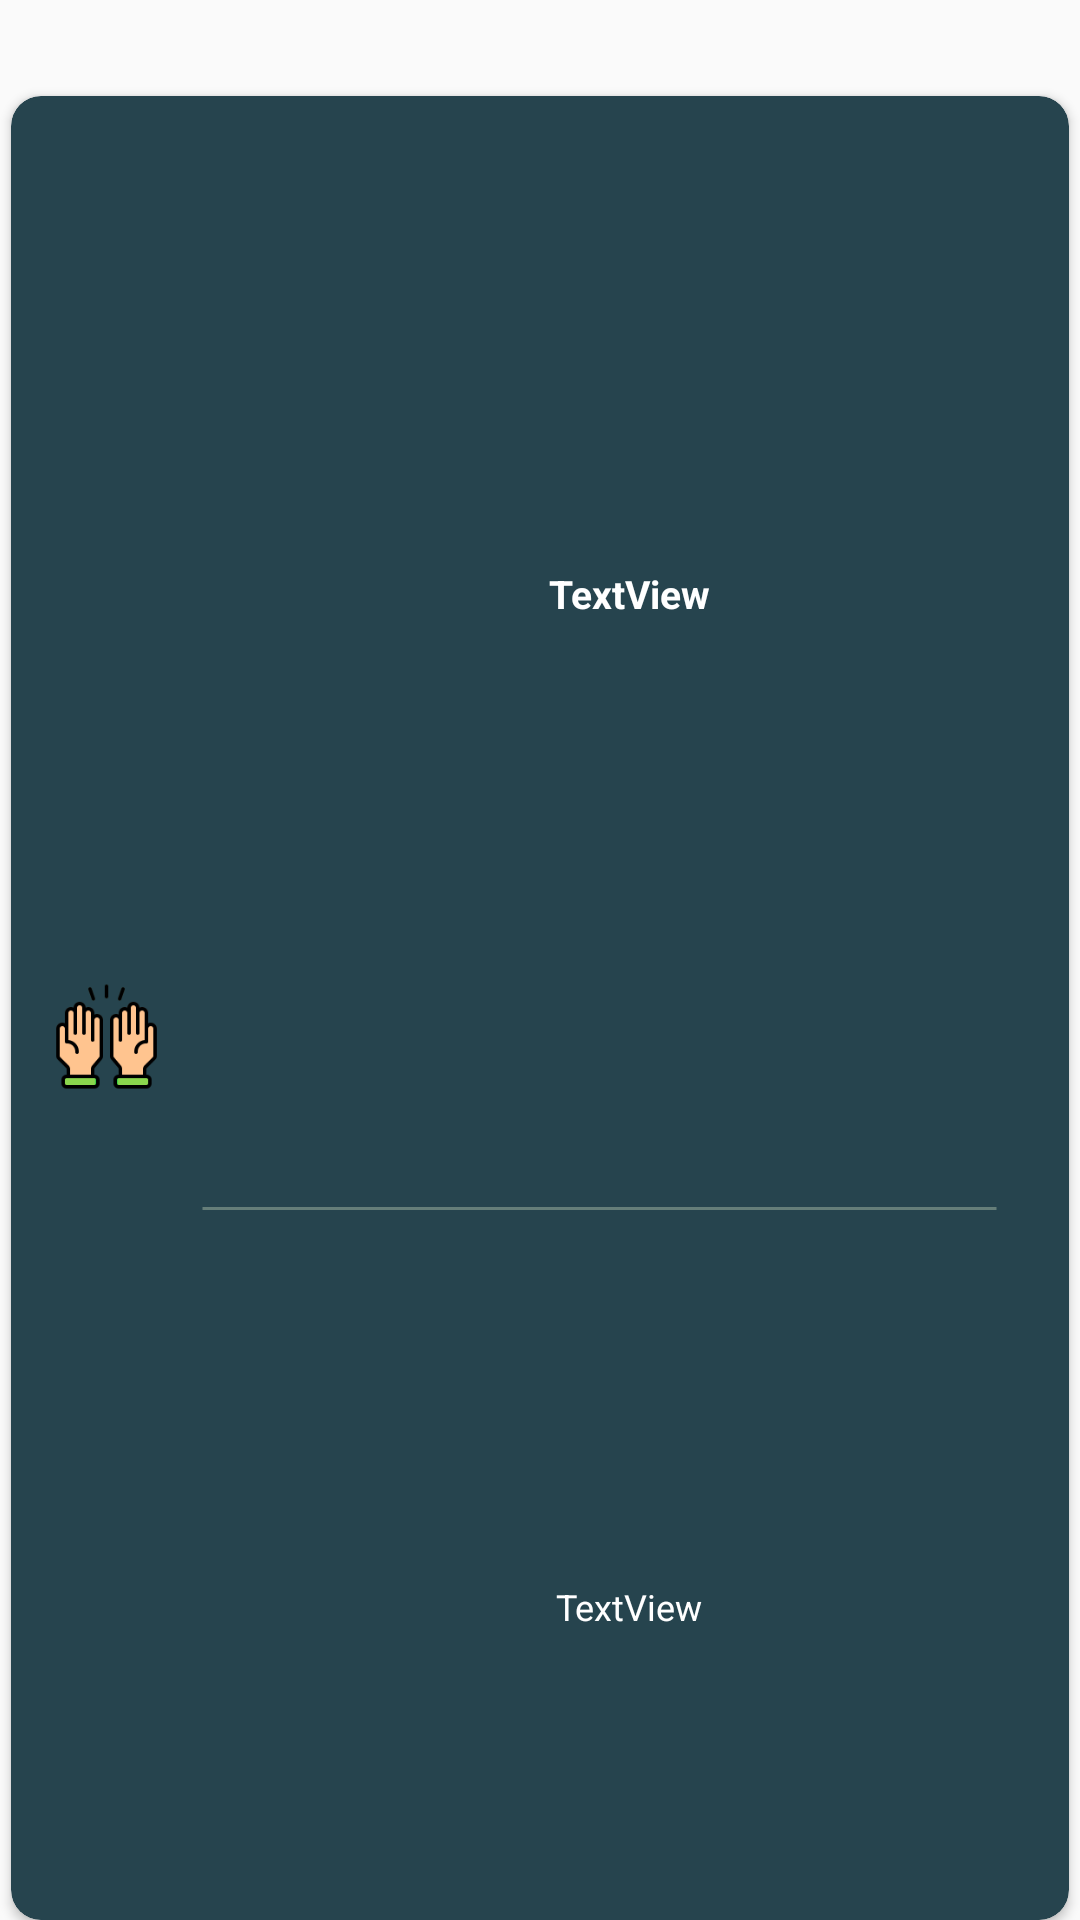

Locate icon controls on the screen. Image size 1080w x 1920h, boxes as (x1, y1, x2, y2).
dua hands: (56, 984, 157, 1089)
